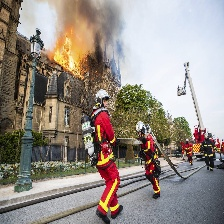fire: (52, 29, 81, 76)
smoke: (49, 1, 128, 52)
